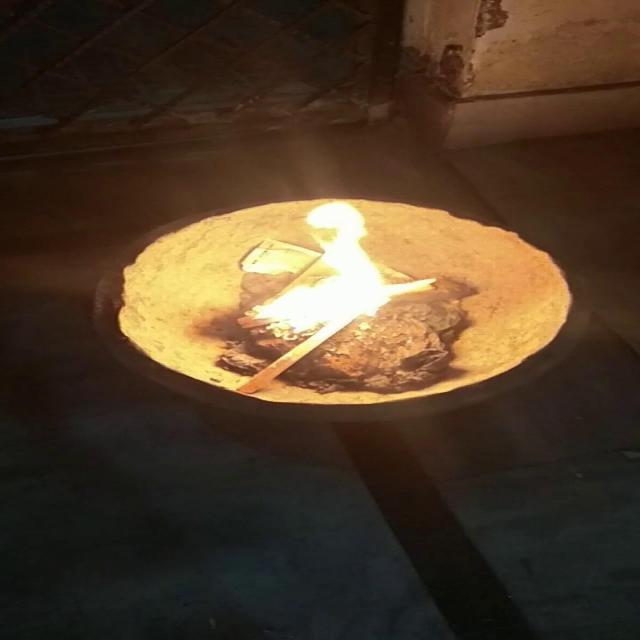fire: (244, 201, 402, 340)
